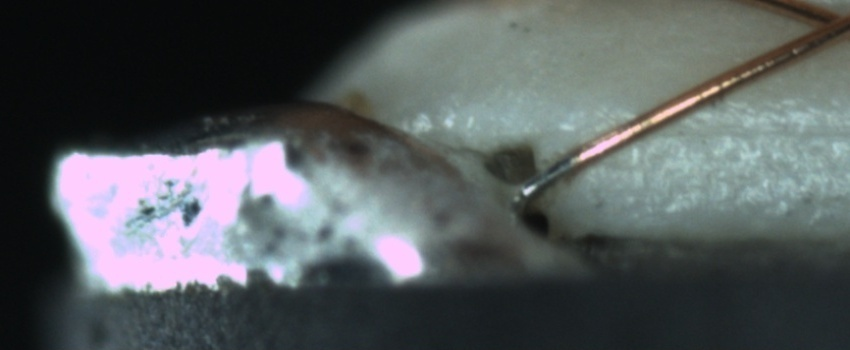CL: (794, 0, 850, 47)
DL: (630, 93, 845, 164)
TS: (518, 153, 579, 201)
TTCW: (517, 135, 602, 202)
